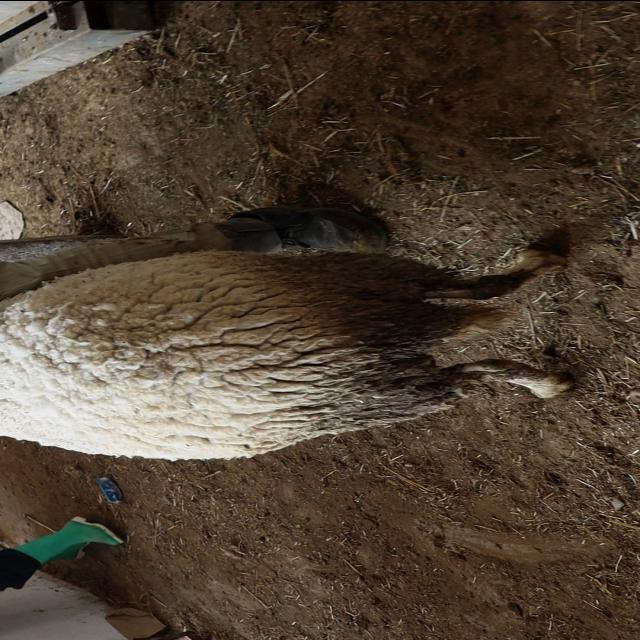Score_5: (0, 248, 571, 459)
